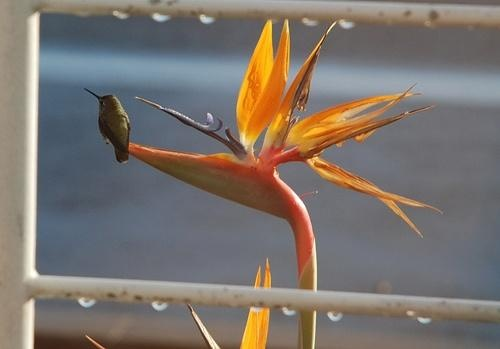bird: (86, 89, 132, 164)
